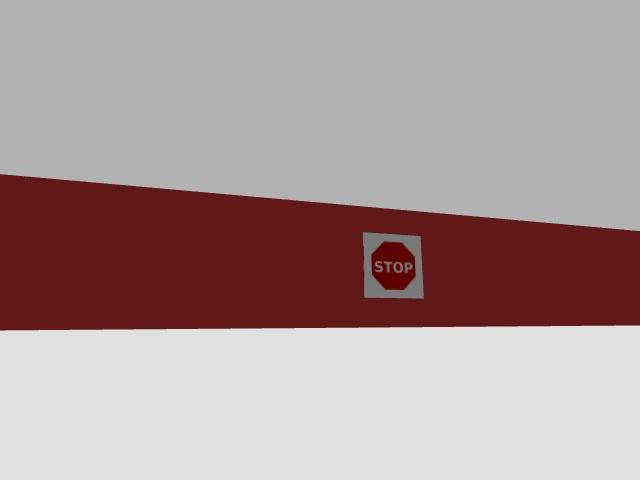stop: (364, 232, 423, 298)
